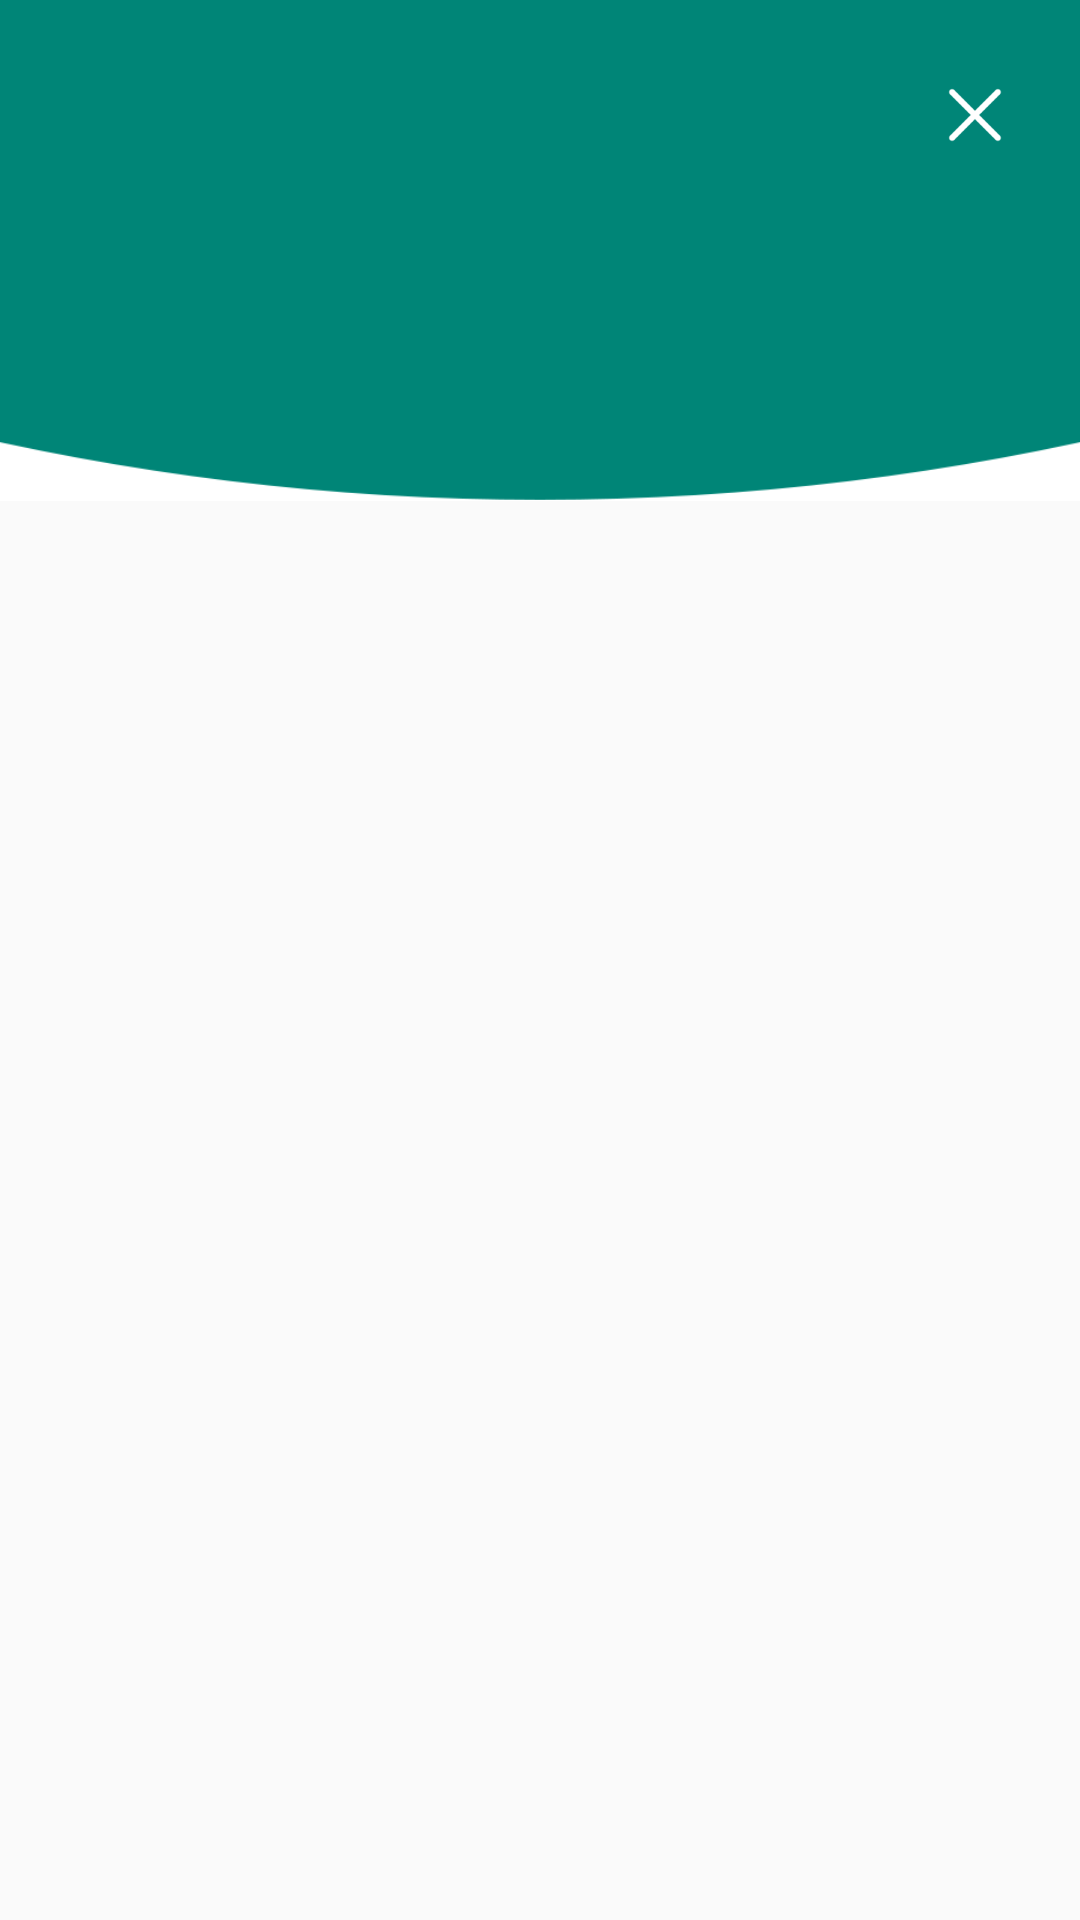

Icons on this 1080*1920 Android screen, each with its box as (x1, y1, x2, y2):
close: (949, 89, 1001, 141)
